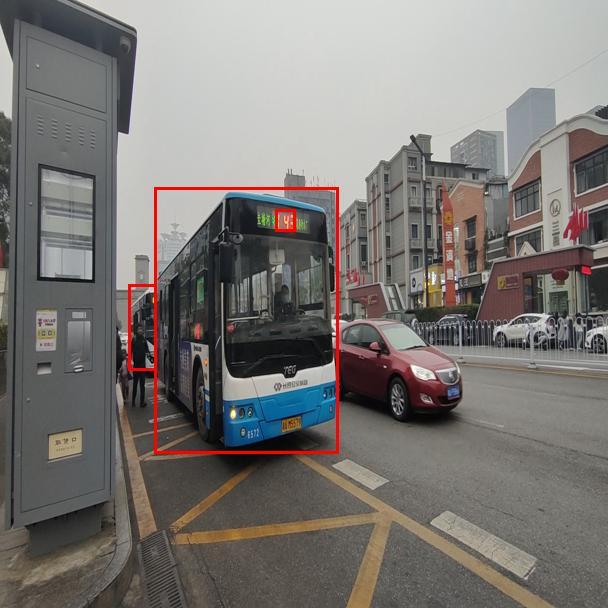bus: (154, 187, 338, 453), (128, 284, 156, 370)
screen: (275, 209, 295, 231)
